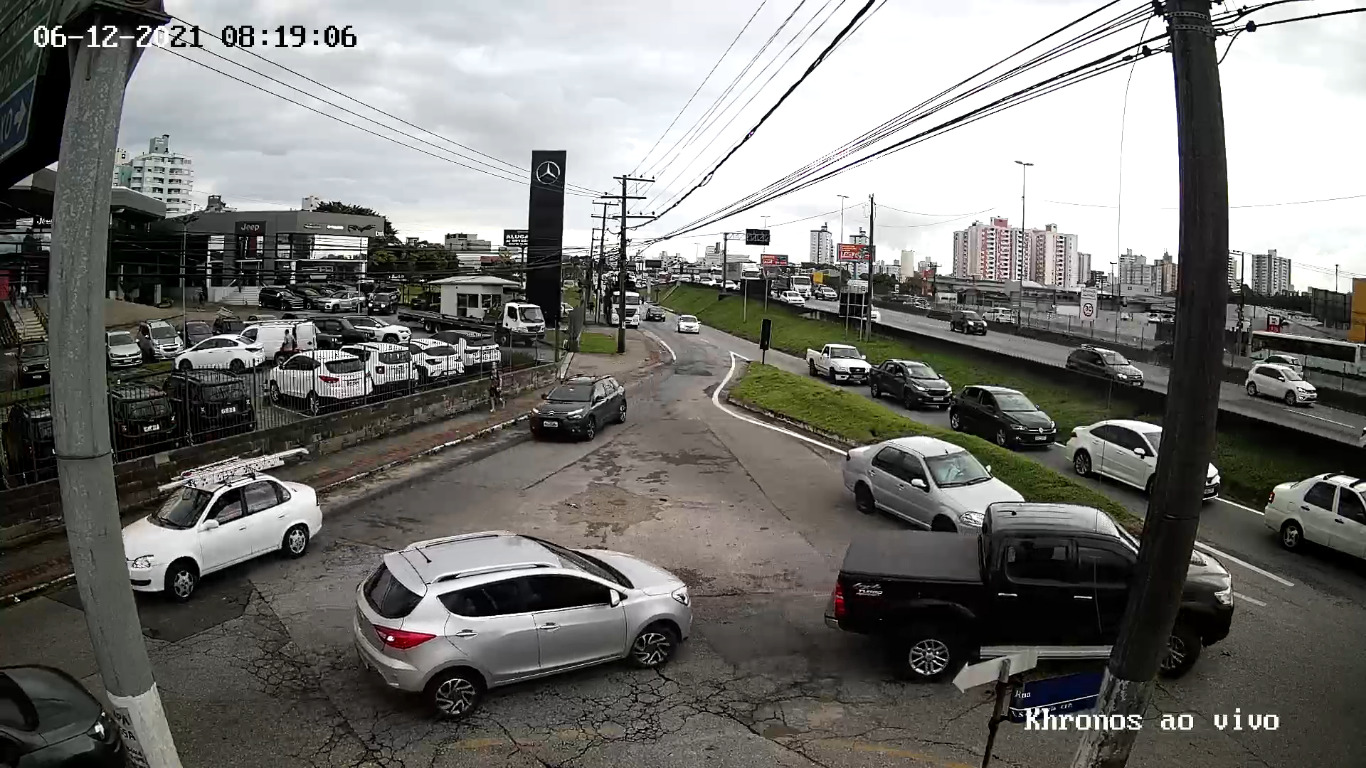car: (830, 501, 1234, 682), (356, 531, 694, 720), (122, 462, 325, 598), (846, 433, 1028, 543)
